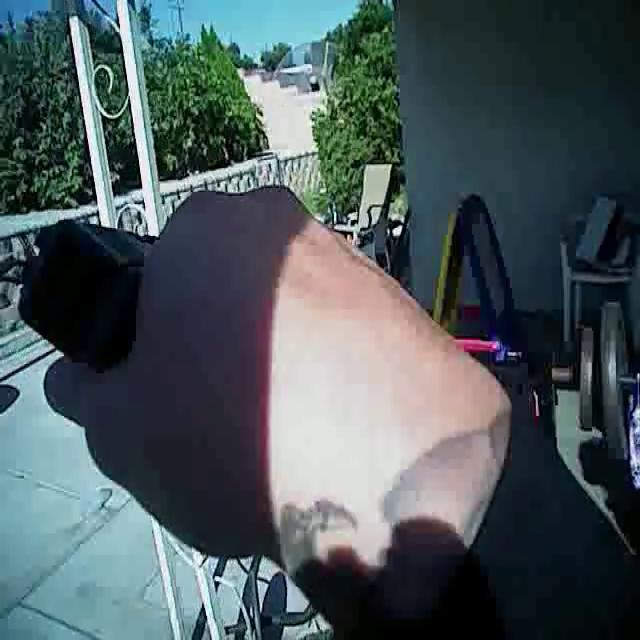gun: (22, 129, 210, 497)
